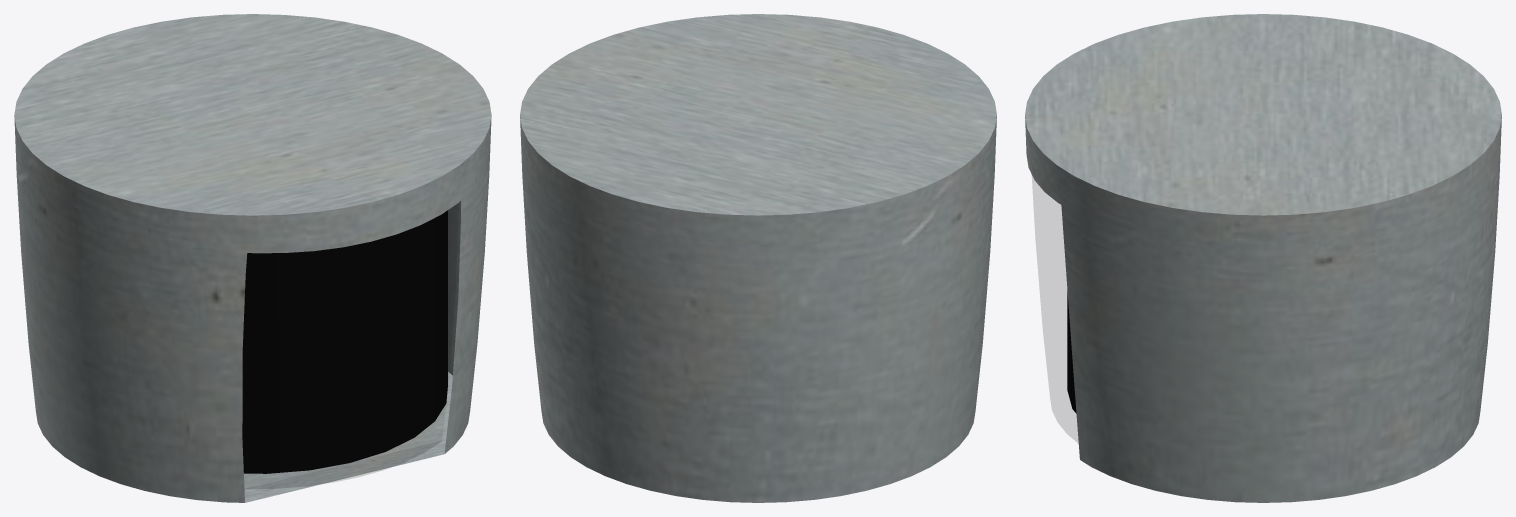
Rendered from v_shell.obj.
3 views of the same model, side by side, from view 1: azimuth 30°, elevation 25°; view 2: azimuth 150°, elevation 25°; view 3: azimuth 270°, elevation 25° (orthographic).
Parts seen in each view (by area): view 1: shell, neike, glass; view 2: shell; view 3: shell, glass, neike.
Part boxes in pixels (bbox=[...]): shell: bbox=[14, 14, 491, 502]; neike: bbox=[242, 210, 447, 473]; glass: bbox=[246, 441, 440, 488]; shell: bbox=[520, 14, 996, 502]; shell: bbox=[1025, 14, 1501, 502]; glass: bbox=[1032, 177, 1077, 442]; neike: bbox=[1067, 291, 1076, 413].
Bounding box in the file's own units: 177 × 121 × 177.
Materials: 3 (1 with a texture image).
